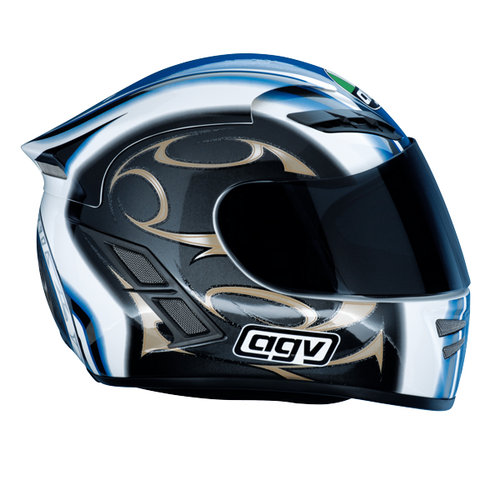helmet: (25, 65, 466, 408)
